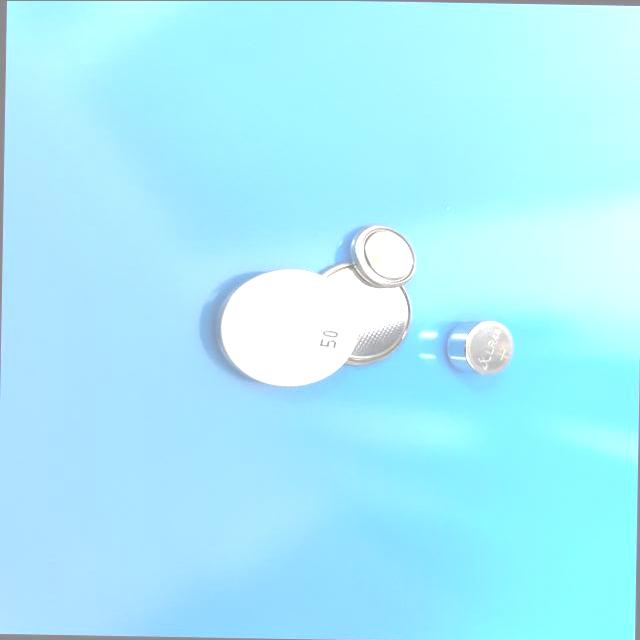COIN: (204, 266, 360, 391), (308, 262, 412, 370), (345, 223, 416, 290), (442, 321, 518, 378)
